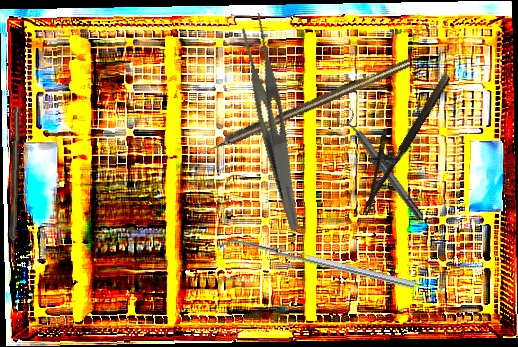Dressing Forceps: (228, 11, 324, 233)
Fixation Ring: (333, 105, 430, 226)
Hook Surgical: (195, 58, 412, 158), (8, 106, 21, 262)
Needle Holder: (340, 62, 453, 216)
Spatula Surgical: (219, 233, 416, 297)
